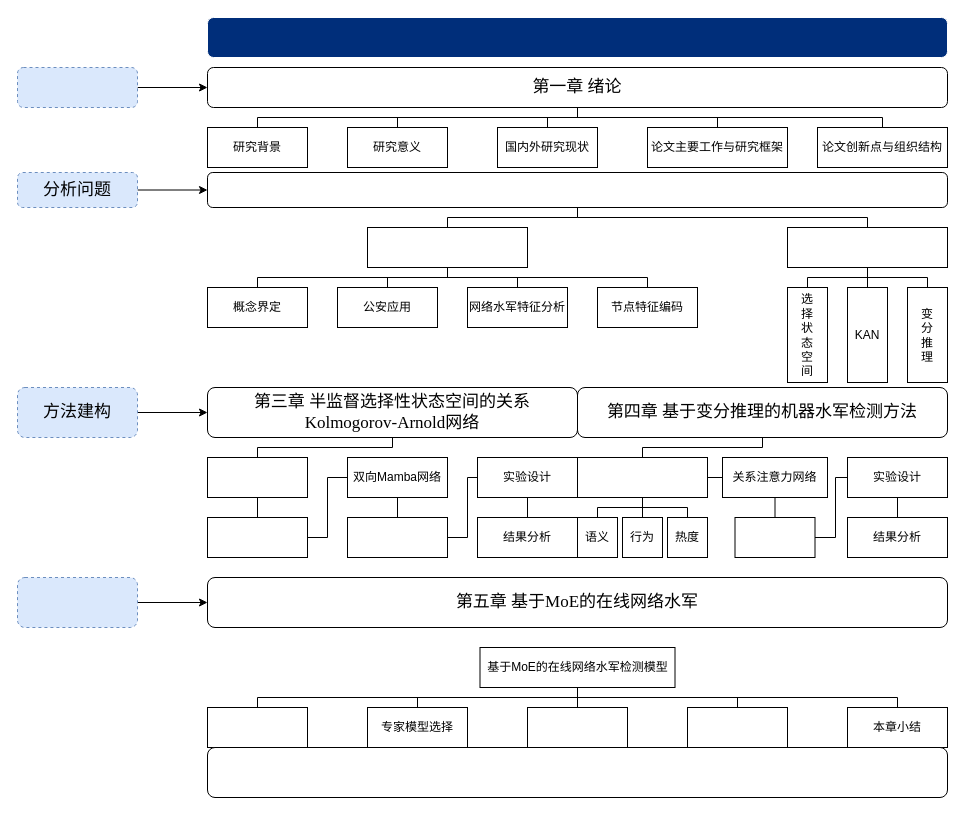
This 965x815 diagram has some shape labels left out. Here are the shapes that lost their labels. From the top down, the centre of each, then its label:
At (x=577, y=37): "基于图神经网络的在线网络水军检测方法研究".
At (x=77, y=87): "提出问题".
At (x=577, y=190): "第二章 网络水军检测模型分析".
At (x=447, y=247): "网络水军检测".
At (x=867, y=247): "“机器水军”识别模型构建".
At (x=257, y=477): "子图划分与令牌化".
At (x=642, y=477): "特征提取框架".
At (x=257, y=537): "特征聚合".
At (x=397, y=537): "KAN改进的半监督分类器".
At (x=774, y=537): "变分编码器".
At (x=77, y=602): "解决问题".
At (x=257, y=727): "系统需求分析".
At (x=577, y=727): "时序模型构建".
At (x=737, y=727): "系统可视化分析".
At (x=577, y=772): "第六章 总结与展望".
